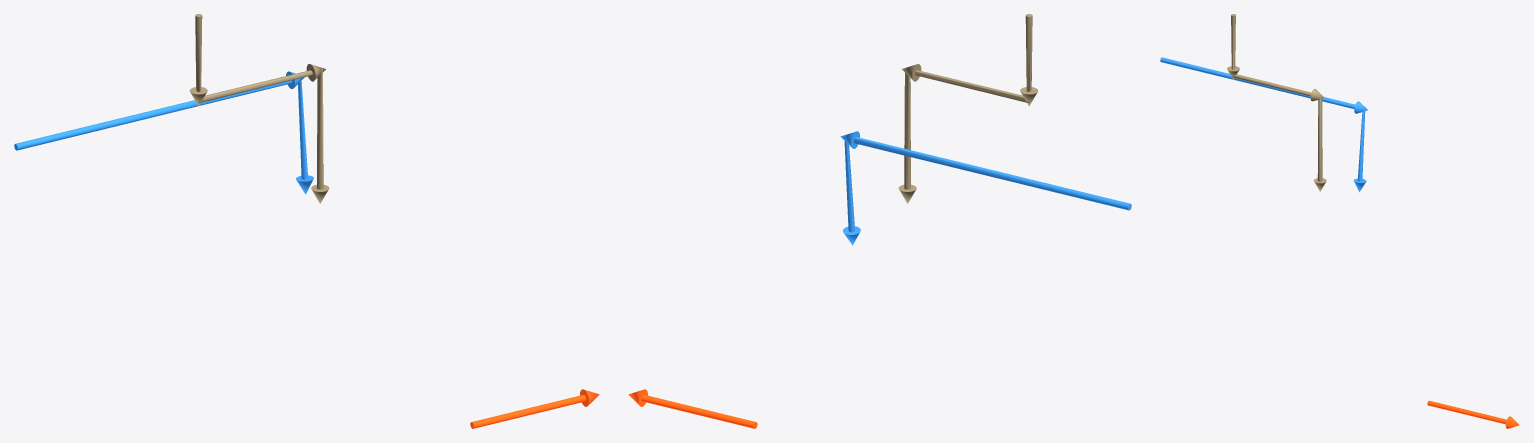
File: chemical_preparation_tank_flow.glb
3 renders of one model, left to right at view 1: azimuth 30°, elevation 25°; view 2: azimuth 150°, elevation 25°; view 3: azimuth 330°, elevation 25°, orthographic. The views are drawn at different scales.
Visible parts, largest first — view 1: water, powder.001, solution; view 2: water, powder.001, solution; view 3: powder.001, water, solution.
Boxes of the visible parts, x1,y1,x2,y2 form: water: (14,71,313,194); powder.001: (189,14,329,203); solution: (470,389,599,428); water: (840,131,1131,245); powder.001: (898,14,1038,203); solution: (628,389,757,428); powder.001: (1227,14,1326,191); water: (1160,57,1367,192); solution: (1427,400,1519,428).
Bounding box in the file's own units: 2.68 × 2.29 × 0.428.
